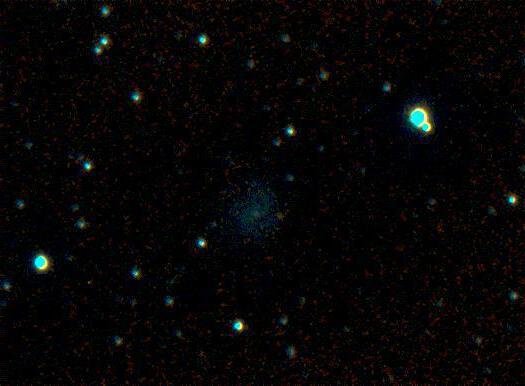star: (266, 200, 296, 230)
